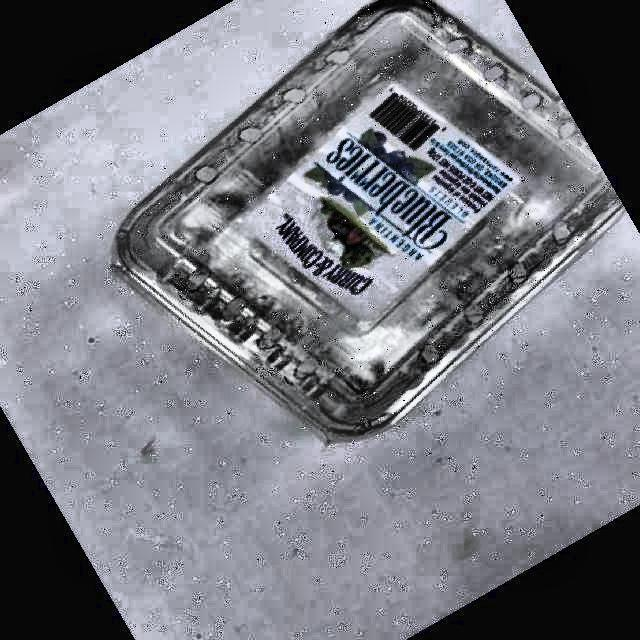plastic: (115, 0, 622, 441)
